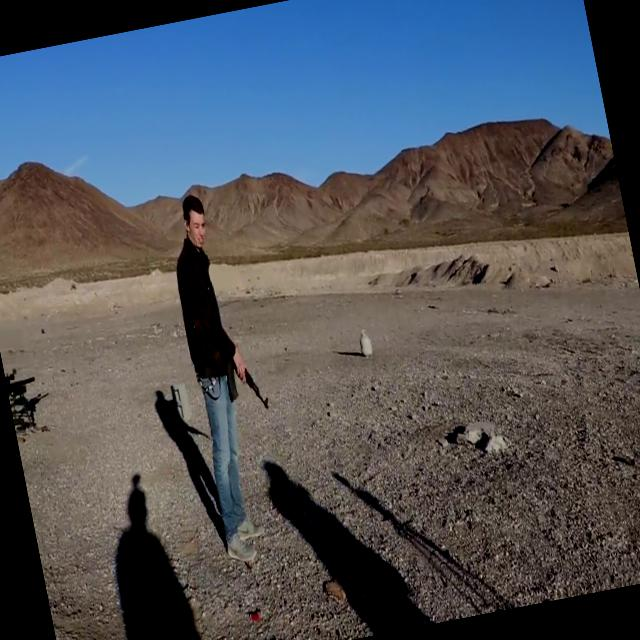long weapon: (187, 300, 278, 427)
